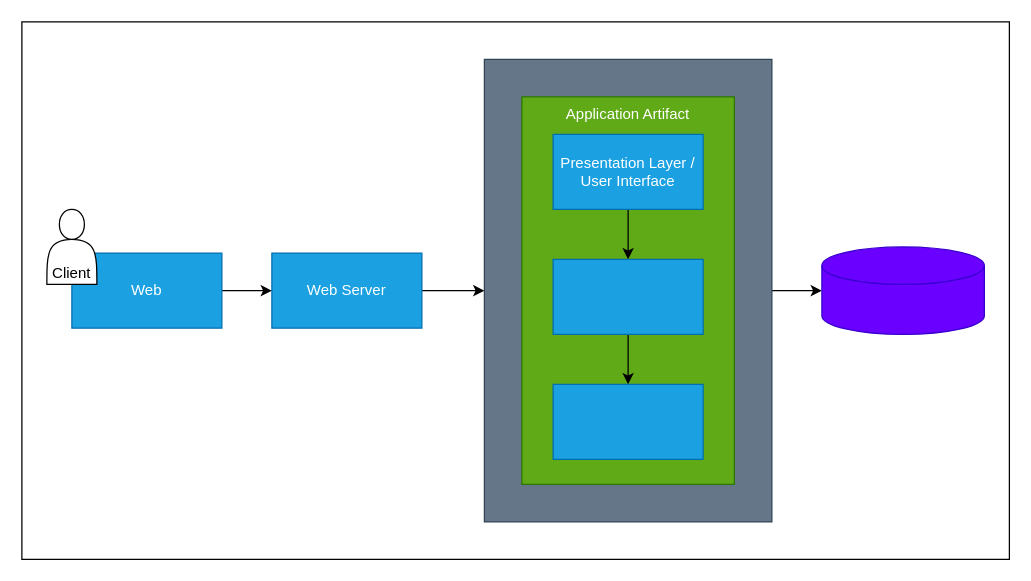
Image size: 1031x581. Some labels were removed from this diagram. The shapes that lost their labels are listed below. From the top down, each one's centre as x and y in pixels, then its label:
the point at 627,296: Application Layer / Business Logic
the point at 902,290: RDBMS
the point at 627,421: Database Layer / Data Access
